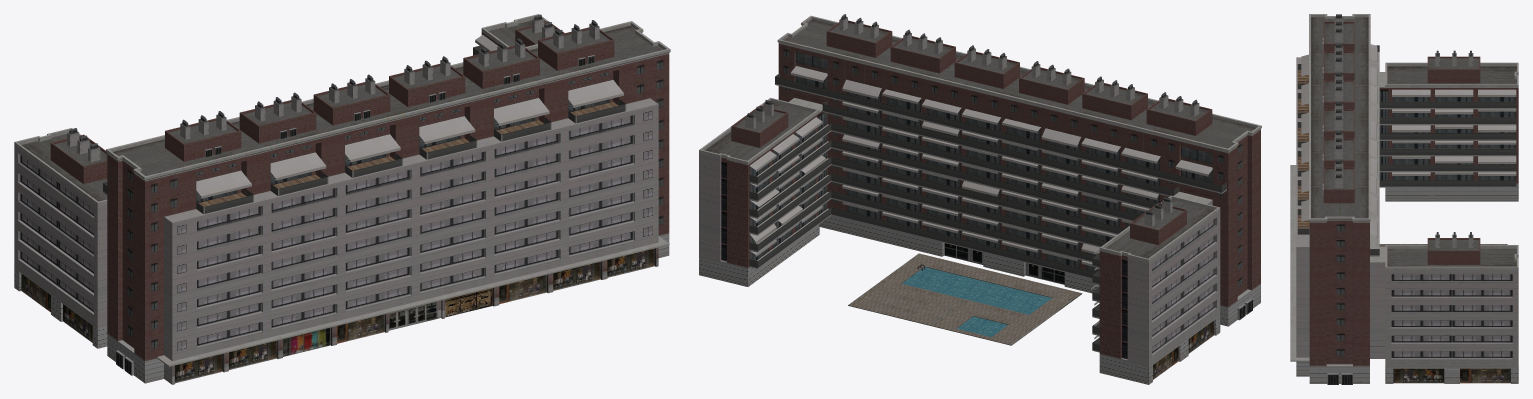
3 views of the same model, side by side, from view 1: azimuth 30°, elevation 25°; view 2: azimuth 150°, elevation 25°; view 3: azimuth 270°, elevation 25° (orthographic). The views are drawn at different scales.
Size of the model in its own units: 8871 by 3796 by 4149.
1 material, 1 textured.
